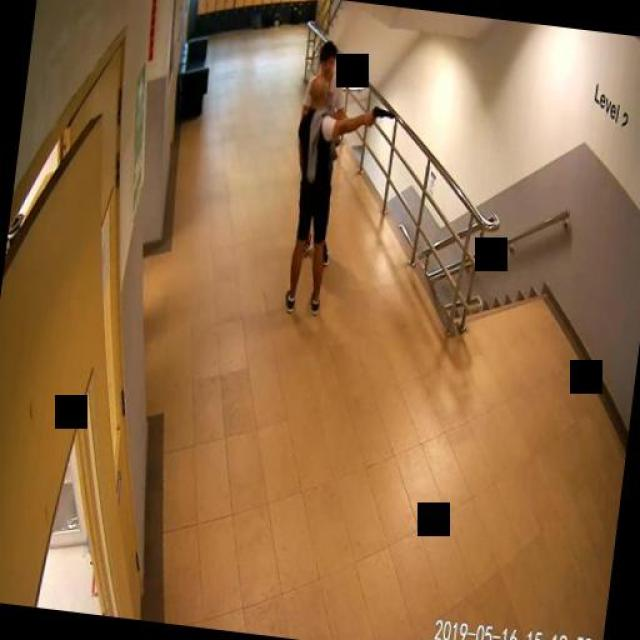gun: (366, 105, 394, 127)
